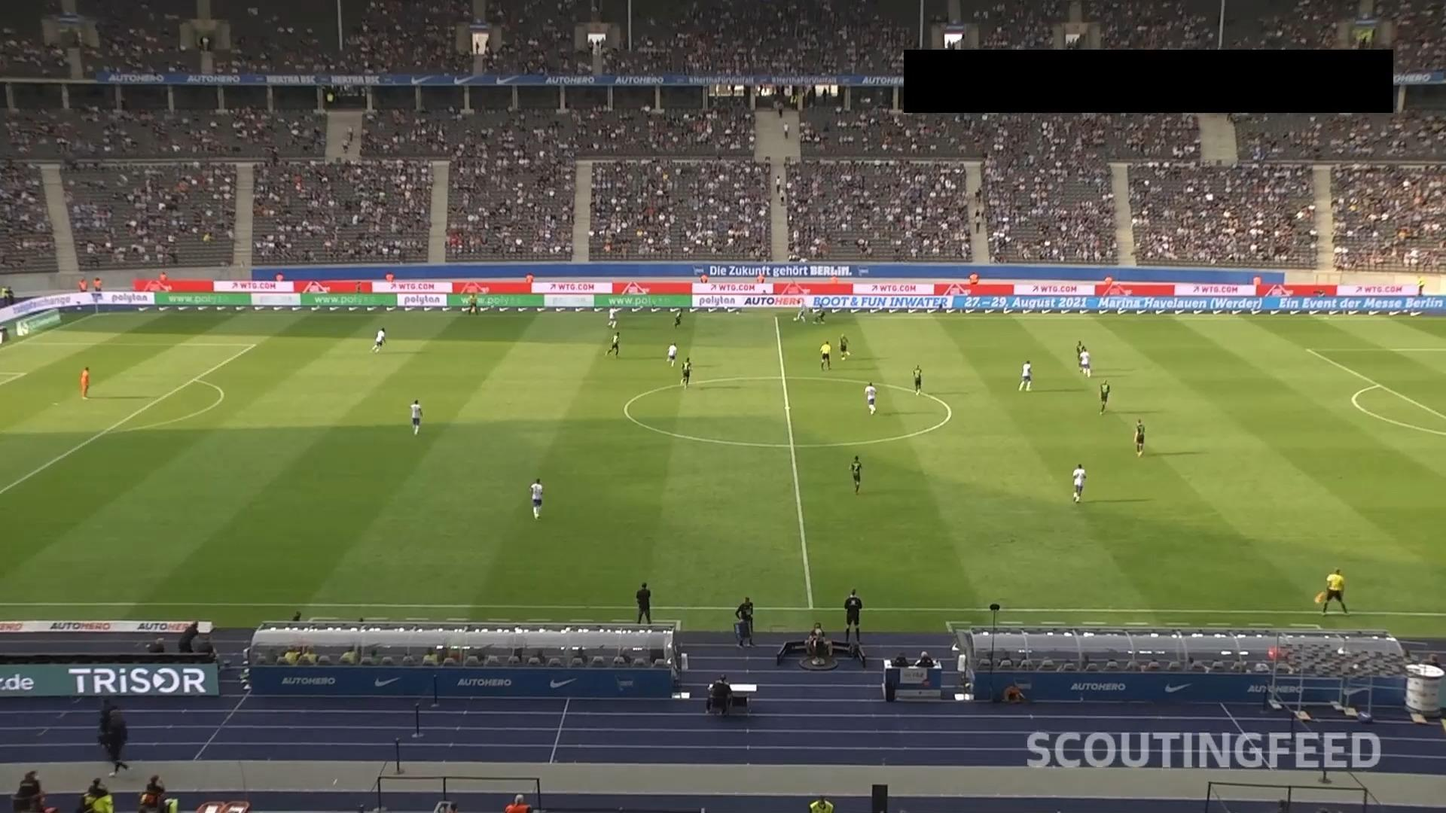ball: (793, 318, 797, 322)
goalkeeper: (81, 366, 93, 400)
player: (528, 478, 546, 520), (1072, 463, 1087, 503), (1017, 361, 1036, 392), (410, 399, 425, 435), (1133, 419, 1146, 460), (849, 455, 863, 493), (604, 331, 621, 360), (369, 327, 387, 354), (680, 357, 694, 390), (911, 364, 924, 396), (1098, 379, 1109, 416), (837, 333, 852, 360), (865, 382, 877, 415), (1075, 340, 1086, 373), (1079, 349, 1091, 377), (607, 306, 621, 329), (667, 343, 679, 368), (796, 300, 808, 322), (672, 309, 685, 329), (813, 306, 826, 326)
referee: (1315, 568, 1350, 617), (820, 341, 831, 373), (468, 291, 478, 316)
